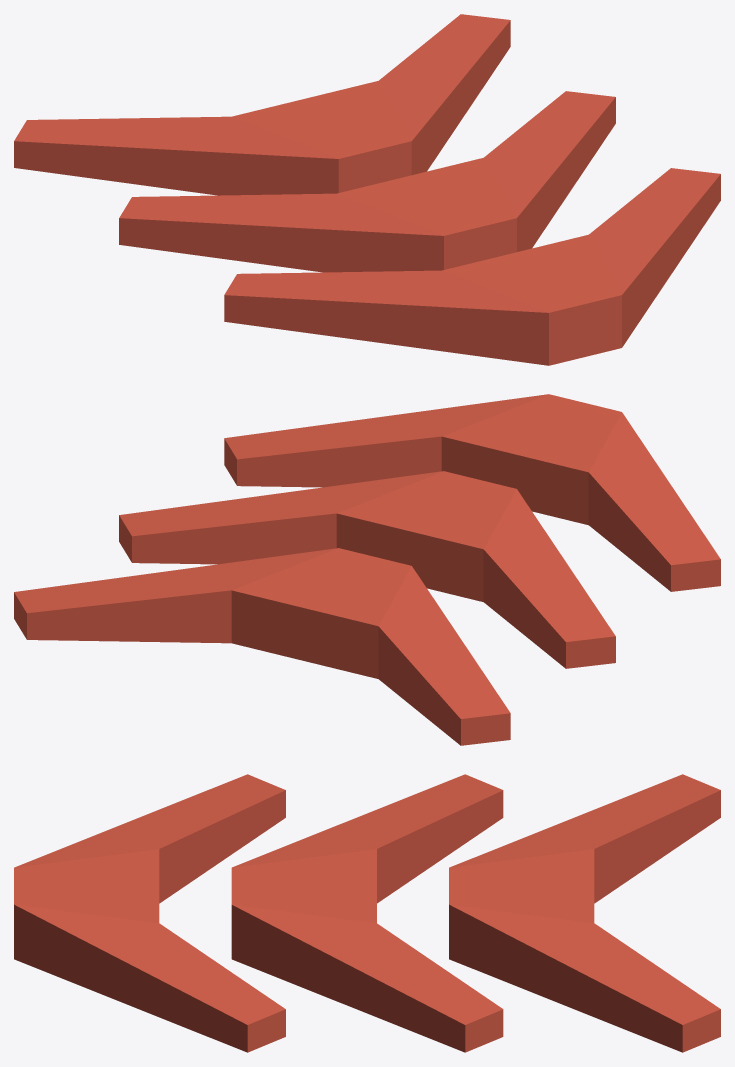
File: Arrow.fbx
The picture shows the model from 3 angles, top to bottom: view 1: azimuth 30°, elevation 25°; view 2: azimuth 150°, elevation 25°; view 3: azimuth 270°, elevation 25°; orthographic projection. The views are drawn at different scales.
Parts seen in each view (by area): view 1: Cube.031; view 2: Cube.031; view 3: Cube.031.
Part boxes in pixels (x1=…): Cube.031: x1=14, y1=14, x2=720, y2=365; Cube.031: x1=14, y1=394, x2=720, y2=745; Cube.031: x1=14, y1=774, x2=720, y2=1052.
Bounding box in the file's own units: 87.09 × 8.87 × 104.
